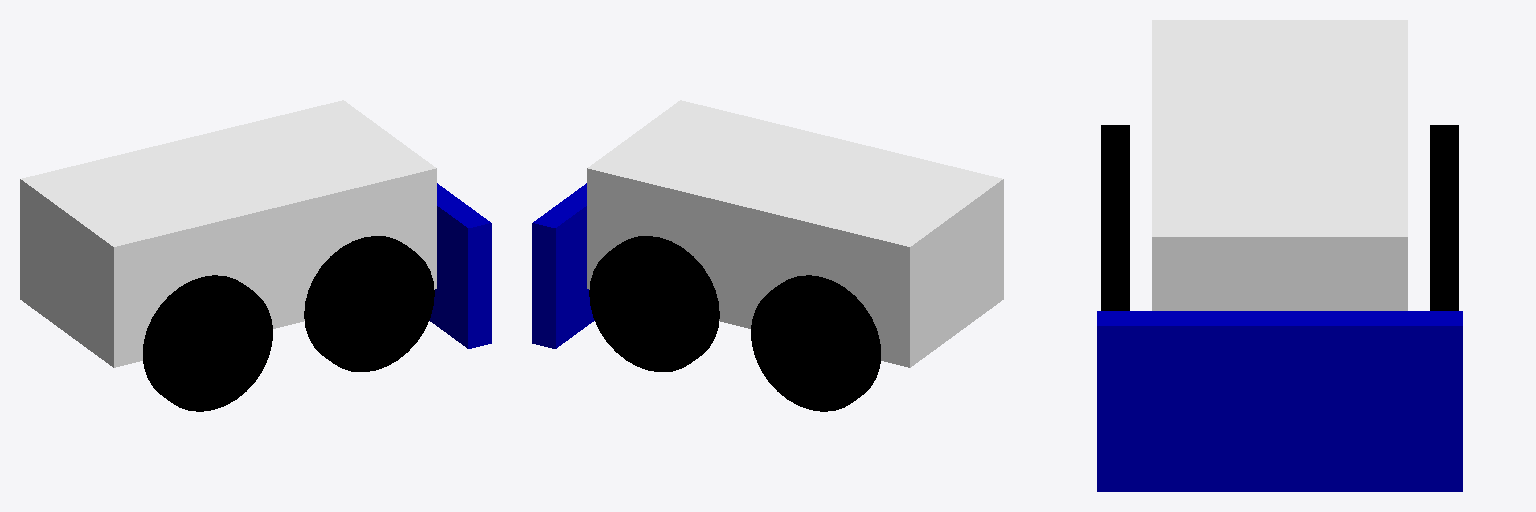
The robot description file, URDF, robot "test_robot":
<robot name="test_robot">

  <!-- Base Link -->
  <link name="base_link">
    <visual>
      <geometry>
        <box size="0.14 0.07 0.05"/>
      </geometry>
      <origin rpy="0 0 0" xyz="0 0 0.045"/>
      <material name="white">
        <color rgba="1 1 1 1"/>
      </material>
    </visual>
    <collision>
      <geometry>
        <box size="0.14 0.07 0.05"/>
      </geometry>
      <origin rpy="0 0 0" xyz="0 0 0.045"/>
    </collision>
    <inertial>
      <origin xyz="0 0 0.045" rpy="0 0 0"/>
      <mass value="1.0"/>
      <inertia ixx="0.002" ixy="0.0" ixz="0.0" iyy="0.001" iyz="0.0" izz="0.003"/>
    </inertial>
  </link>

  <!-- Left Wheel -->
  <link name="lwheel">
    <visual>
      <geometry>
        <cylinder length="0.008" radius="0.026"/>
      </geometry>
      <origin rpy="0 0 0" xyz="0 0 0"/>
      <material name="black">
        <color rgba="0 0 0 1"/>
      </material>
    </visual>
    <collision>
      <geometry>
        <cylinder length="0.008" radius="0.026"/>
      </geometry>
      <origin rpy="0 0 0" xyz="0 0 0"/>
    </collision>
    <inertial>
      <origin xyz="0 0 0" rpy="0 0 0"/>
      <mass value="0.2"/>
      <inertia ixx="0.00005" ixy="0.0" ixz="0.0" iyy="0.00005" iyz="0.0" izz="0.0001"/>
    </inertial>
  </link>

  <!-- Rotational Joint for Left Wheel -->
  <joint name="base_to_lwheel" type="continuous">
    <parent link="base_link"/>
    <child link="lwheel"/>
    <origin xyz="0.035 0.045 0.026" rpy="1.5708 0 0"/>
    <axis xyz="0 0 1"/> <!-- Rotate around Z-axis -->
  </joint>

  <!-- Right Wheel -->
  <link name="rwheel">
    <visual>
      <geometry>
        <cylinder length="0.008" radius="0.026"/>
      </geometry>
      <origin rpy="0 0 0" xyz="0 0 0"/>
      <material name="black">
        <color rgba="0 0 0 1"/>
      </material>
    </visual>
    <collision>
      <geometry>
        <cylinder length="0.008" radius="0.026"/>
      </geometry>
      <origin rpy="0 0 0" xyz="0 0 0"/>
    </collision>
    <inertial>
      <origin xyz="0 0 0" rpy="0 0 0"/>
      <mass value="0.2"/>
      <inertia ixx="0.00005" ixy="0.0" ixz="0.0" iyy="0.00005" iyz="0.0" izz="0.0001"/>
    </inertial>
  </link>

  <!-- Rotational Joint for Right Wheel -->
  <joint name="base_to_rwheel" type="continuous">
    <parent link="base_link"/>
    <child link="rwheel"/>
    <origin xyz="0.035 -0.045 0.026" rpy="1.5708 0 0"/>
    <axis xyz="0 0 1"/> <!-- Rotate around Z-axis -->
  </joint>


  <!-- Left Wheel -->
  <link name="lwheel_back">
    <visual>
      <geometry>
        <cylinder length="0.008" radius="0.026"/>
      </geometry>
      <origin rpy="0 0 0" xyz="0 0 0"/>
      <material name="black">
        <color rgba="0 0 0 1"/>
      </material>
    </visual>
    <collision>
      <geometry>
        <cylinder length="0.008" radius="0.026"/>
      </geometry>
      <origin rpy="0 0 0" xyz="0 0 0"/>
    </collision>
    <inertial>
      <origin xyz="0 0 0" rpy="0 0 0"/>
      <mass value="0.2"/>
      <inertia ixx="0.00005" ixy="0.0" ixz="0.0" iyy="0.00005" iyz="0.0" izz="0.0001"/>
    </inertial>
  </link>

  <!-- Rotational Joint for Left Wheel -->
  <joint name="base_to_lwheel_back" type="continuous">
    <axis xyz="0 0 1"/> 
    <parent link="base_link"/>
    <child link="lwheel_back"/>
    <origin xyz="-0.035 0.045 0.026" rpy="1.5708 0 0"/>
    <!-- <limit lower="-3.1415" upper="3.1415" effort="1e2" velocity="0.2"/> -->

  </joint>

  <!-- Right Wheel -->
  <link name="rwheel_back">
    <visual>
      <geometry>
        <cylinder length="0.008" radius="0.026"/>
      </geometry>
      <origin rpy="0 0 0" xyz="0 0 0"/>
      <material name="black">
        <color rgba="0 0 0 1"/>
      </material>
    </visual>
    <collision>
      <geometry>
        <cylinder length="0.008" radius="0.026"/>
      </geometry>
      <origin rpy="0 0 0" xyz="0 0 0"/>
    </collision>
    <inertial>
      <origin xyz="0 0 0" rpy="0 0 0"/>
      <mass value="0.2"/>
      <inertia ixx="0.00005" ixy="0.0" ixz="0.0" iyy="0.00005" iyz="0.0" izz="0.0001"/>
    </inertial>
  </link>

  <!-- Rotational Joint for Right Wheel -->
  <joint name="base_to_rwheel_back" type="continuous">
    <parent link="base_link"/>
    <child link="rwheel_back"/>
    <origin xyz="-0.0350 -0.045 0.026" rpy="1.5708 0 0"/>
    <!-- <limit lower="-3.1415" upper="3.1415" effort="1e2" velocity="0.2"/> -->
    <axis xyz="0 0 1"/> 
  </joint>


  <!-- Front Wheel Attachment -->
  <link name="shovel">
    <visual>
      <geometry>
        <box size="0.01 0.1 0.05"/>
      </geometry>
      <origin rpy="0 0 0" xyz="0 0 0"/>
      <material name="blue">
        <color rgba="0 0 0.8 1"/>
      </material>
    </visual>
    <collision>
      <geometry>
        <box size="0.01 0.1 0.05"/>
      </geometry>
      <origin rpy="0 0 0" xyz="0 0 0"/>
    </collision>
    <inertial>
      <origin xyz="0 0 0" rpy="0 0 0"/>
      <mass value="0.3"/>
      <inertia ixx="0.0001" ixy="0.0" ixz="0.0" iyy="0.0001" iyz="0.0" izz="0.0002"/>
    </inertial>
  </link>

  <joint name="base_to_fattach" type="fixed">
    <parent link="base_link"/>
    <child link="shovel"/>
    <origin xyz="0.08 0 0.025" rpy="0 0 0"/>
  </joint>

</robot>

--- Facts derived from the render (not from the file) ---
Views: 3 orthographic renders of the robot side by side, from view 1: azimuth 30°, elevation 25°; view 2: azimuth 150°, elevation 25°; view 3: azimuth 270°, elevation 25°.
Robot: test_robot — 6 links, 5 joints (4 continuous, 1 fixed); root link base_link; default pose: all joints at 0.
Links seen in each view (by area): view 1: base_link, rwheel, rwheel_back, shovel; view 2: base_link, lwheel, lwheel_back, shovel; view 3: base_link, shovel, lwheel_back, rwheel_back, lwheel, rwheel.
Boxes of the visible links, left/top/right/bottom form: base_link: left=20, top=100, right=436, bottom=367; rwheel: left=304, top=236, right=434, bottom=371; rwheel_back: left=143, top=275, right=272, bottom=411; shovel: left=429, top=183, right=491, bottom=348; base_link: left=587, top=100, right=1003, bottom=367; lwheel: left=589, top=236, right=719, bottom=371; lwheel_back: left=751, top=275, right=880, bottom=411; shovel: left=532, top=183, right=594, bottom=348; base_link: left=1152, top=20, right=1407, bottom=310; shovel: left=1097, top=311, right=1462, bottom=491; lwheel_back: left=1430, top=125, right=1458, bottom=232; rwheel_back: left=1101, top=125, right=1129, bottom=232; lwheel: left=1430, top=233, right=1458, bottom=310; rwheel: left=1101, top=233, right=1129, bottom=310.
Size in the robot's own frame: 0.155 by 0.1 by 0.07 metres.
Geometry: primitives only (box / cylinder / sphere), no mesh files.